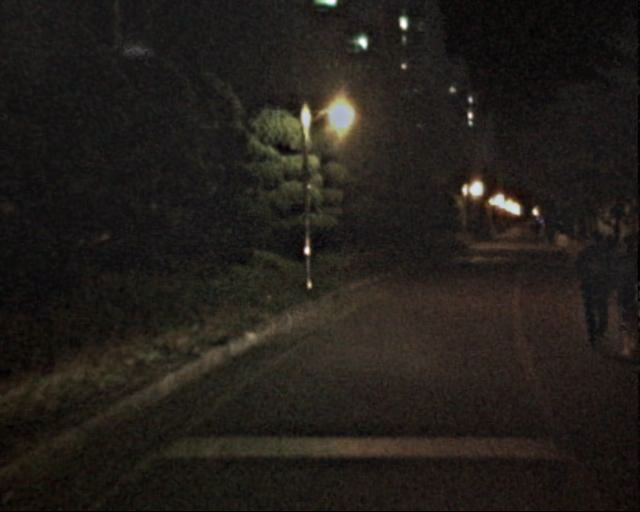person: (568, 228, 619, 352), (599, 236, 640, 357)
